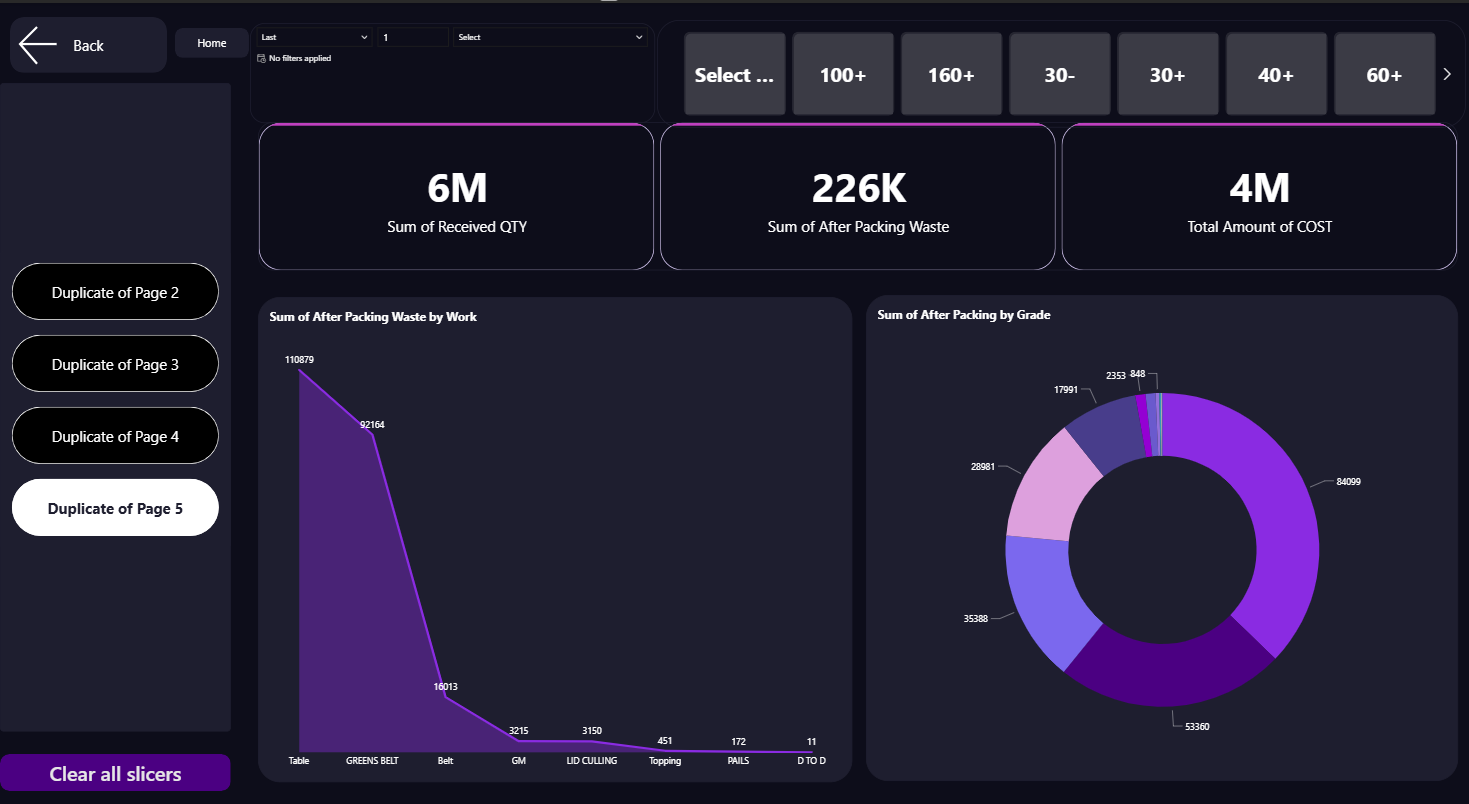

The dashboard page shown, as its layout file describes it:
{"tool":"powerbi","page":{"name":"Duplicate of Page 5","canvas":[2000,1080],"ordinal":4},"visuals":[{"type":"group","id":"g1","title":"Group 1","box":[337.5,23.2,1638.2,1026.7],"z":0},{"type":"areaChart","title":"Sum of  After Packing Waste by Work","fields":{"Category":["WASTE LOSS.WORK"],"Y":["Sum(WASTE LOSS.AFTER PACKING WASTE)"]},"box":[347.6,396.3,800.5,653.6],"z":0,"group":"g1"},{"type":"shape","box":[0,107.7,311.1,874],"z":1000},{"type":"donutChart","title":"Sum of After Packing by Grade","fields":{"Category":["WASTE LOSS.Grade"],"Y":["Sum(WASTE LOSS.AFTER PACKING WASTE)"]},"box":[1167,393.6,797.8,655],"z":1000,"group":"g1"},{"type":"slicer","fields":{"Values":["WASTE LOSS.Date"]},"box":[337.5,27.2,545.8,134.8],"z":2000,"group":"g1"},{"type":"actionButton","box":[235.7,33.7,99.7,40.4],"z":2000},{"type":"actionButton","box":[13.5,18.9,211.6,75.5],"z":3000},{"type":"cardVisual","fields":{"Data":["Sum(WASTE LOSS.Received QTY              (kg))","Sum(WASTE LOSS.AFTER PACKING WASTE)","Sum(WASTE LOSS.COST)"]},"box":[347.6,160.4,1617.3,200],"z":3000,"group":"g1"},{"type":"advancedSlicerVisual","fields":{"Values":["WASTE LOSS.Grade"]},"box":[885.5,23.2,1090.2,145],"z":4000,"group":"g1"},{"type":"pageNavigator","box":[0,333.8,310.8,400],"z":4000},{"type":"actionButton","box":[0,1012.7,311.1,49.8],"z":5000}]}

Visuals, with their boxes on the page's 2000x1080 design canvas (x1, y1, x2, y2). These are canvas units, not pixel positions in the 1469x804 screenshot, which may show the page scaled, cropped or inside an application window:
"Group 1" group: <region>338, 23, 1976, 1050</region>
"Sum of  After Packing Waste by Work" areaChart: <region>348, 396, 1148, 1050</region>
shape: <region>0, 108, 311, 982</region>
"Sum of After Packing by Grade" donutChart: <region>1167, 394, 1965, 1049</region>
slicer - WASTE LOSS.Date: <region>338, 27, 883, 162</region>
actionButton: <region>236, 34, 335, 74</region>
actionButton: <region>14, 19, 225, 94</region>
cardVisual - Sum(WASTE LOSS.Received QTY              (kg)) x Sum(WASTE LOSS.AFTER PACKING WASTE): <region>348, 160, 1965, 360</region>
advancedSlicerVisual - WASTE LOSS.Grade: <region>886, 23, 1976, 168</region>
pageNavigator: <region>0, 334, 311, 734</region>
actionButton: <region>0, 1013, 311, 1062</region>
